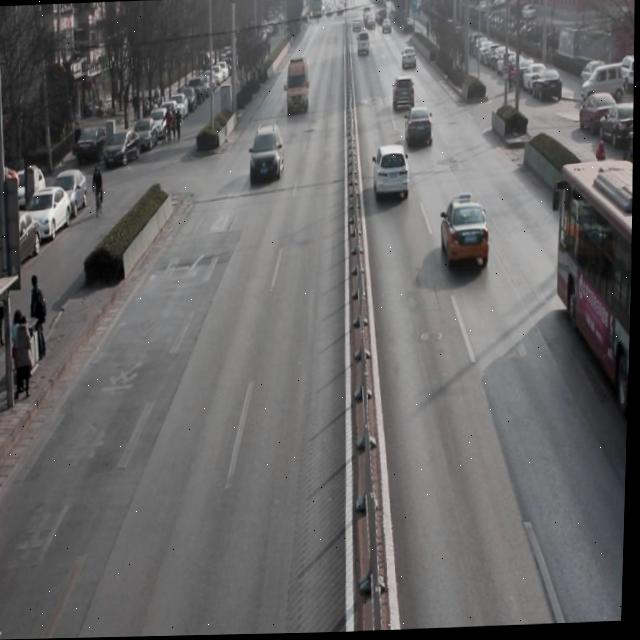car: (439, 198, 493, 276), (372, 145, 413, 210), (251, 126, 284, 192), (404, 106, 437, 152), (392, 74, 417, 116), (403, 48, 419, 72)
truck: (287, 59, 312, 122), (356, 30, 374, 59)
van: (550, 161, 636, 419)
